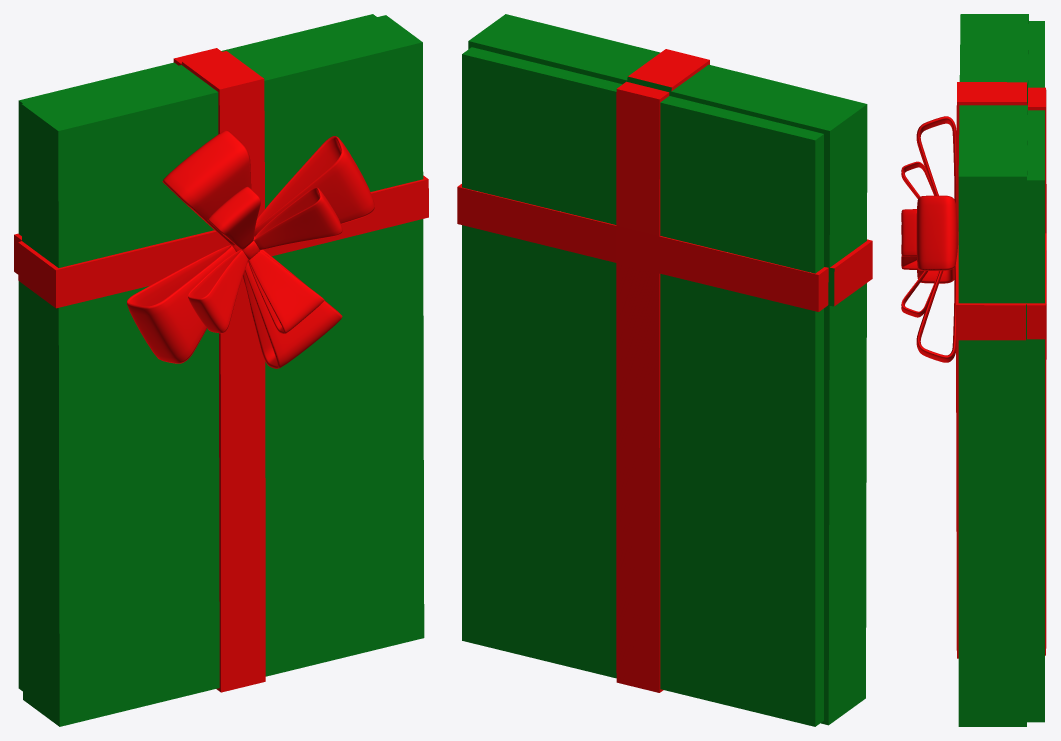
File: gift-inscripedia.glb
3 views of the same model, side by side, from view 1: azimuth 30°, elevation 25°; view 2: azimuth 150°, elevation 25°; view 3: azimuth 270°, elevation 25° (orthographic). The views are drawn at different scales.
Parts seen in each view (by area): view 1: Cube.011, Cube.013, Cube.012; view 2: Cube.012, Cube.011; view 3: Cube.011, Cube.012, Cube.013.
Boxes of the visible parts, box(x1,y1,x2,y2) form: Cube.011: box(18, 15, 428, 726); Cube.013: box(127, 130, 374, 368); Cube.012: box(14, 14, 376, 691); Cube.012: box(457, 47, 828, 726); Cube.011: box(468, 14, 872, 725); Cube.011: box(955, 14, 1028, 726); Cube.012: box(1027, 21, 1046, 722); Cube.013: box(901, 116, 958, 362).
Size of the model in its own units: 0.854 by 1.32 by 0.3129.
